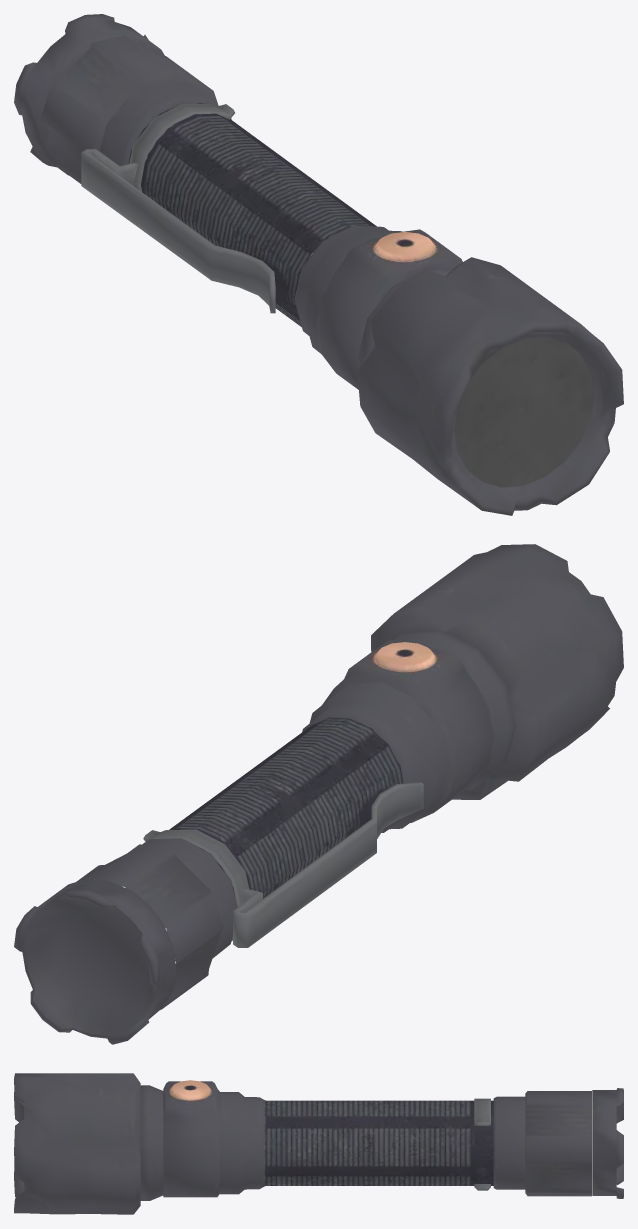
The model's file is flashlight.glb.
3 renders of one model, top to bottom at view 1: azimuth 30°, elevation 25°; view 2: azimuth 150°, elevation 25°; view 3: azimuth 270°, elevation 25°, orthographic. The views are drawn at different scales.
Visible parts, largest first — view 1: flashlight; view 2: flashlight; view 3: flashlight.
Part boxes in pixels (x1,y1,x2,y2): flashlight: (14, 14, 623, 515); flashlight: (14, 544, 623, 1044); flashlight: (14, 1073, 623, 1214).
Bounding box in the file's own units: 0.0512 × 0.0515 × 0.22.
Materials: 1 (1 with a texture image).
